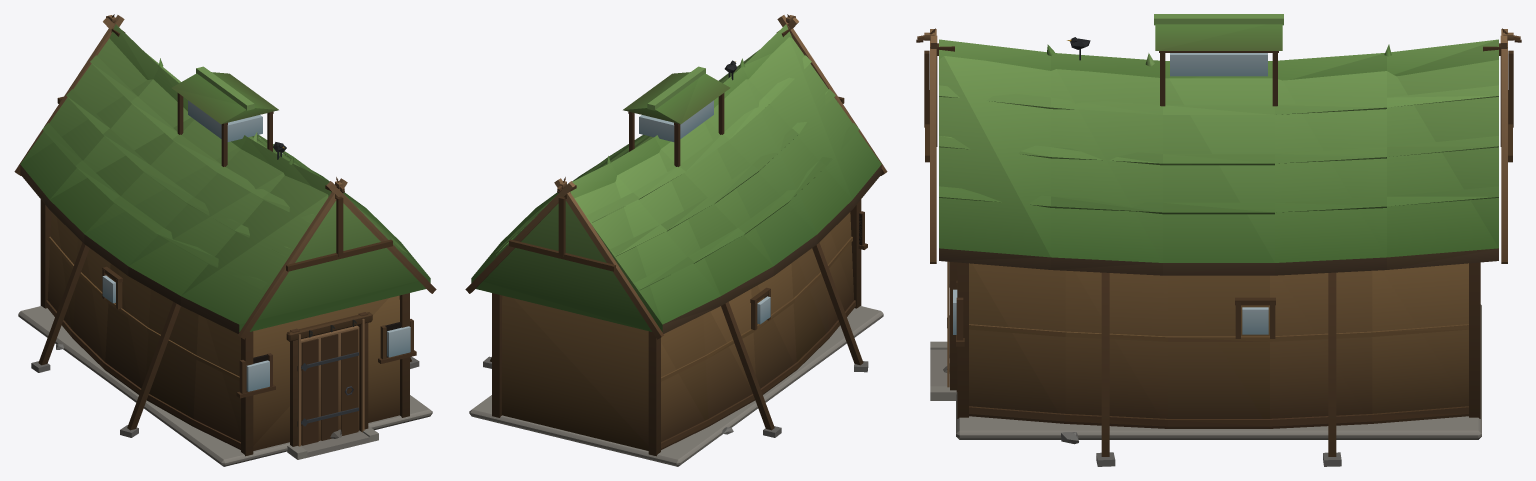
Rendered from great-hall.glb.
3 views of the same model, side by side, from view 1: azimuth 30°, elevation 25°; view 2: azimuth 150°, elevation 25°; view 3: azimuth 270°, elevation 25° (orthographic). The views are drawn at different scales.
Visible parts, largest first — view 1: great_hall; view 2: great_hall; view 3: great_hall.
Boxes of the visible parts, x1,y1,x2,y2 form: great_hall: [14, 14, 436, 466]; great_hall: [465, 14, 887, 466]; great_hall: [916, 14, 1521, 466].
Size of the model in its own units: 5.95 by 5.44 by 8.28.
